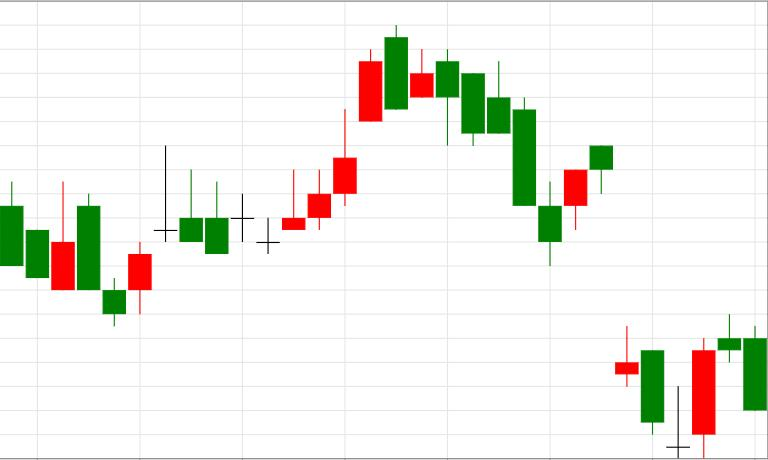shooting_star_fall: (256, 109, 358, 253)
